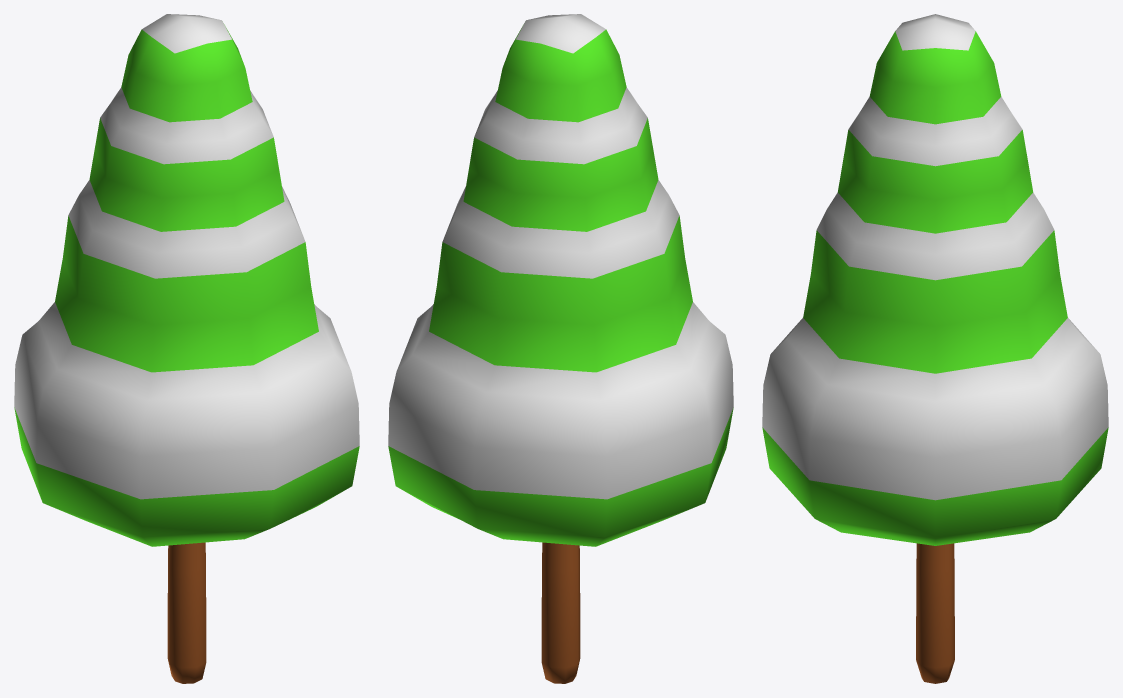
The model's file is Tree.fbx.
3 renders of one model, left to right at view 1: azimuth 30°, elevation 25°; view 2: azimuth 150°, elevation 25°; view 3: azimuth 270°, elevation 25°, orthographic.
Visible parts, largest first — view 1: Tree; view 2: Tree; view 3: Tree.
Boxes of the visible parts, x1=… form: Tree: x1=14, y1=14, x2=359, y2=683; Tree: x1=388, y1=14, x2=733, y2=683; Tree: x1=762, y1=14, x2=1108, y2=683.
Bounding box in the file's own units: 248 × 521 × 248.
